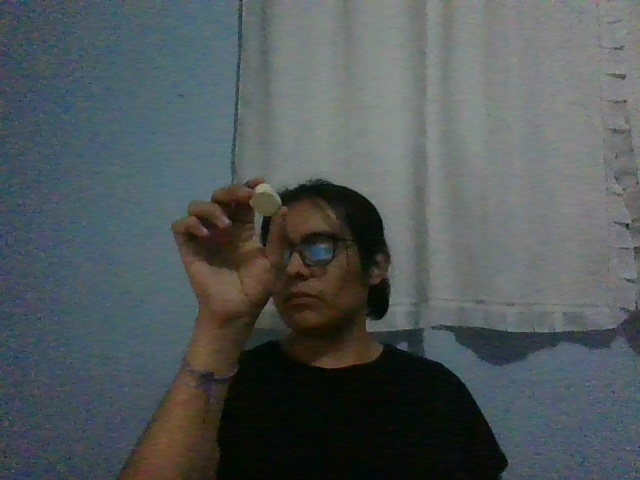goma: (249, 184, 281, 217)
